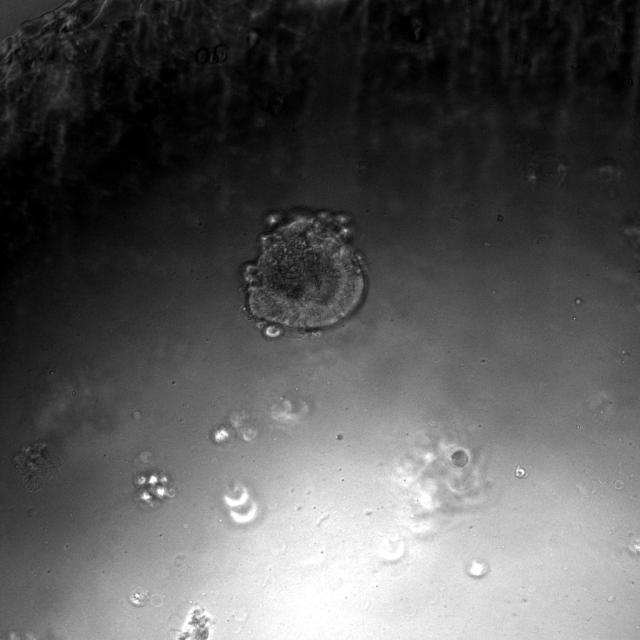organoid: (242, 207, 366, 336), (389, 423, 490, 539), (14, 441, 61, 492), (132, 467, 175, 507), (210, 410, 258, 445), (176, 606, 211, 639), (129, 589, 149, 607), (514, 464, 528, 478)
